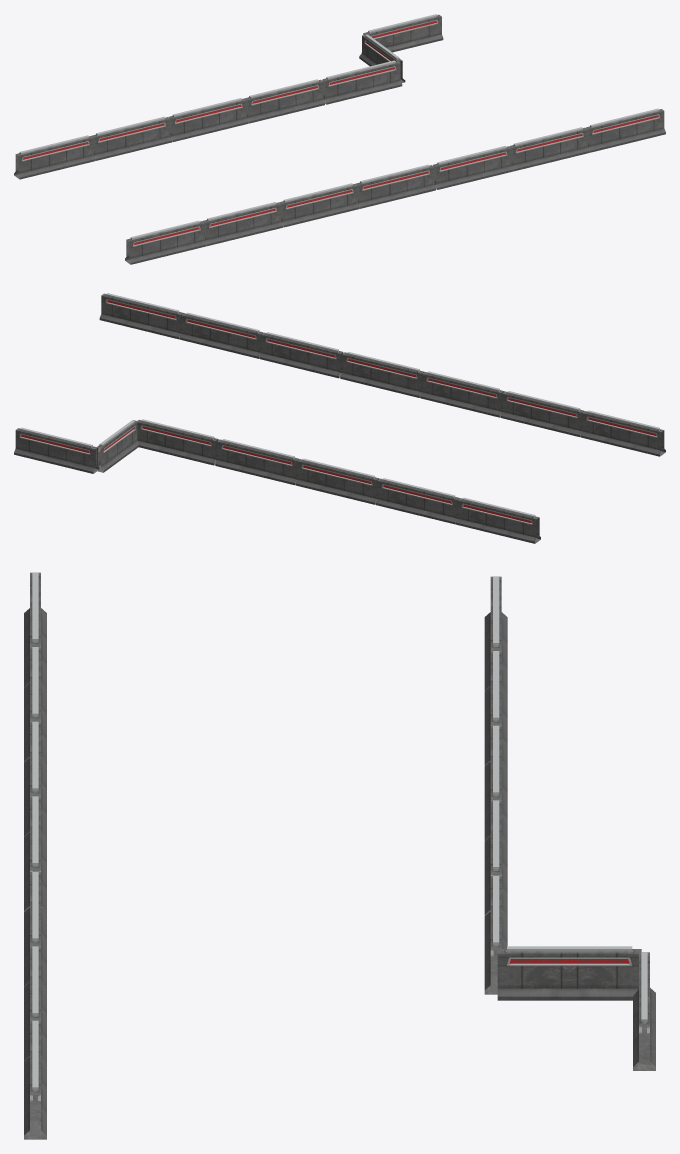
File: RailWallBridge3Lower.fbx
3 renders of one model, top to bottom at view 1: azimuth 30°, elevation 25°; view 2: azimuth 150°, elevation 25°; view 3: azimuth 270°, elevation 25°, orthographic. The views are drawn at different scales.
Visible parts, largest first — view 1: RailWallBridge3Lower; view 2: RailWallBridge3Lower; view 3: RailWallBridge3Lower.
Boxes of the visible parts, x1,y1,x2,y2 form: RailWallBridge3Lower: (14, 14, 665, 264); RailWallBridge3Lower: (14, 293, 665, 543); RailWallBridge3Lower: (24, 572, 655, 1139).
Bounding box in the file's own units: 42.36 × 1.83 × 21.66.
